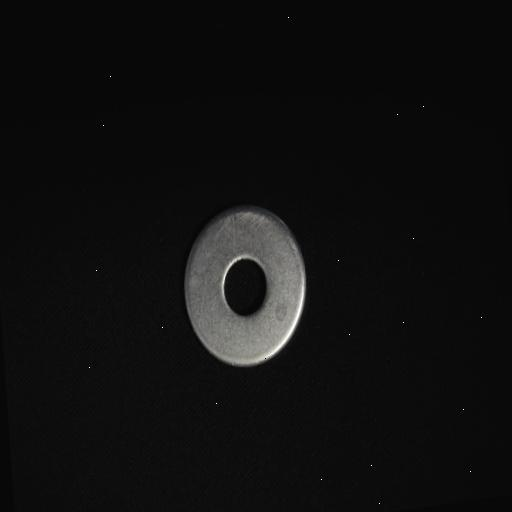Product: (185, 205, 307, 366)
Scratch: (210, 200, 274, 245), (228, 248, 268, 278)
